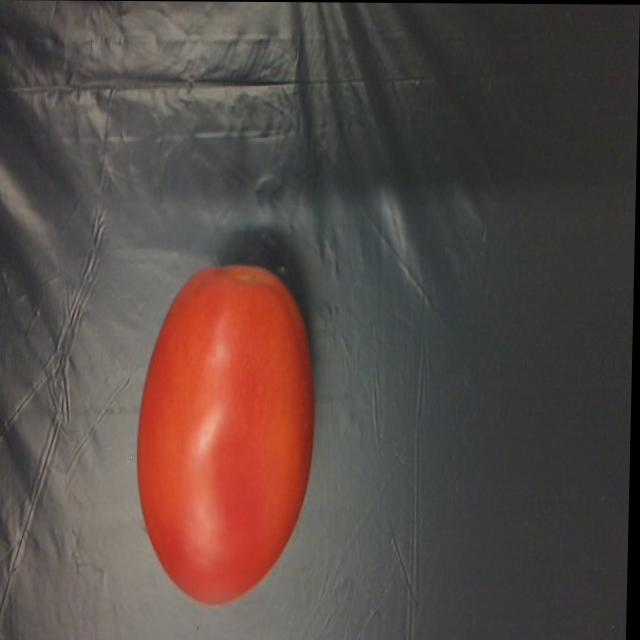kirmizi: (125, 246, 333, 609)
